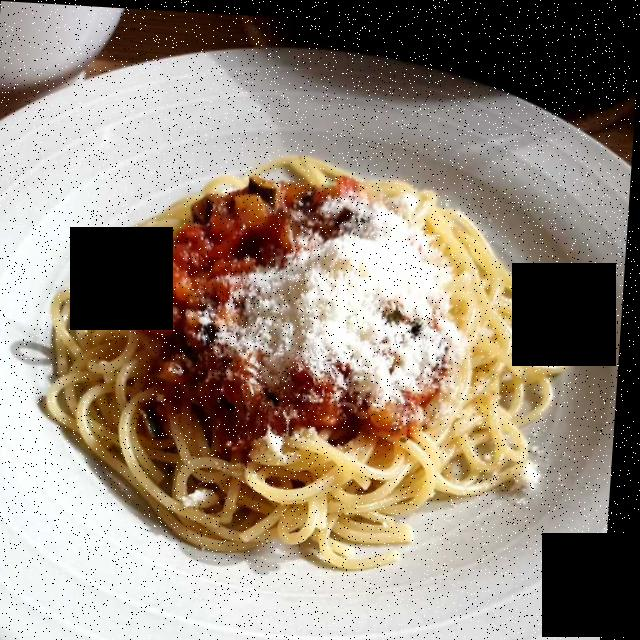parmesan: (215, 184, 452, 392)
pasta-spaghetti: (51, 157, 567, 555)
tomato-sauce: (130, 163, 457, 438)
